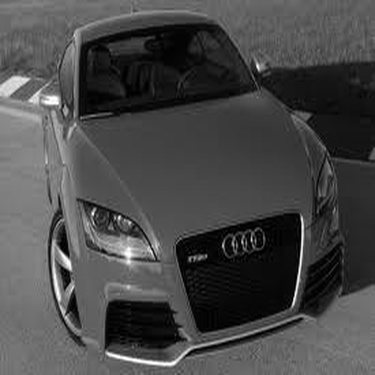car: (38, 5, 350, 368)
